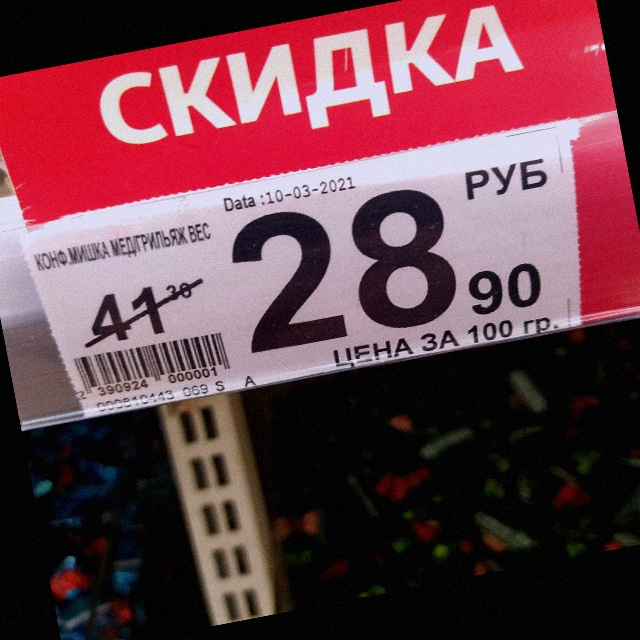barcode: (64, 327, 234, 403)
name: (30, 216, 212, 275)
price: (229, 181, 542, 357)
price_tag: (20, 117, 580, 420)
